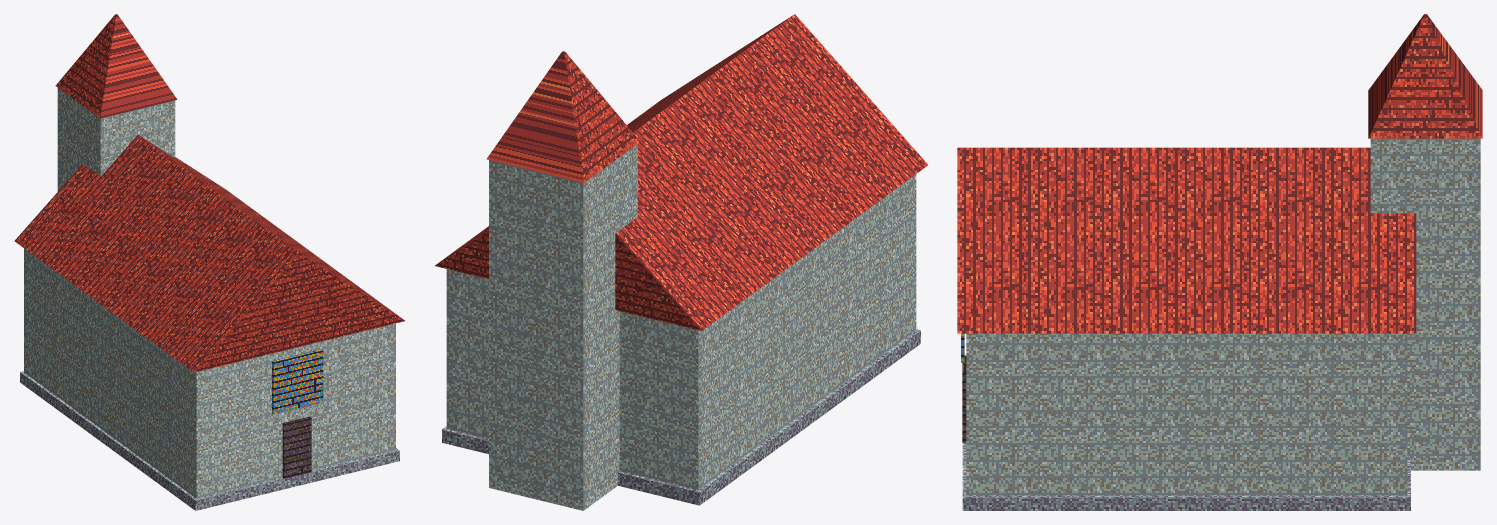
Rendered from igreja.glb.
3 renders of one model, left to right at view 1: azimuth 30°, elevation 25°; view 2: azimuth 150°, elevation 25°; view 3: azimuth 270°, elevation 25°, orthographic. The views are drawn at different scales.
Visible parts, largest first — view 1: igreja; view 2: igreja; view 3: igreja.
Boxes of the visible parts, left/top/right/bottom form: igreja: left=14, top=14, right=404, bottom=510; igreja: left=435, top=14, right=927, bottom=510; igreja: left=957, top=14, right=1482, bottom=510.
Size of the model in its own units: 8.5 by 13 by 14.31.
Materials: 5 (5 with a texture image).
